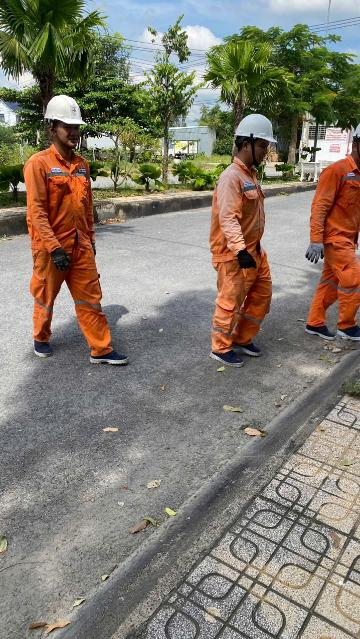gloves: (48, 243, 75, 275), (305, 238, 331, 268), (232, 247, 259, 273)
helmet: (41, 86, 86, 135), (226, 110, 278, 149)
shoes: (79, 349, 134, 371), (205, 345, 247, 372), (327, 315, 360, 346), (27, 331, 57, 362), (236, 334, 264, 361), (303, 322, 338, 343)
